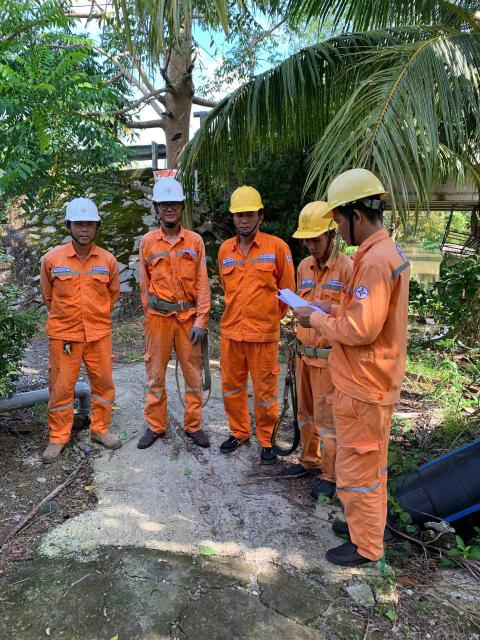gloves: (184, 322, 214, 348)
harness: (288, 333, 341, 365), (147, 292, 204, 318)
helmet: (326, 168, 394, 214), (285, 188, 335, 239), (51, 192, 109, 226), (222, 182, 269, 216), (149, 175, 190, 209)
shoes: (321, 534, 384, 568), (171, 419, 216, 458), (27, 432, 75, 464), (130, 422, 171, 452), (83, 427, 126, 453), (282, 455, 322, 482), (308, 472, 341, 502), (253, 442, 282, 470), (218, 430, 248, 457), (327, 519, 358, 539)
